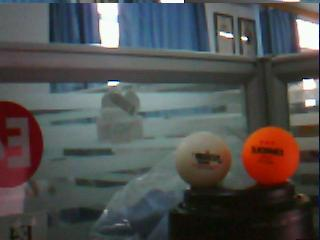oball: (242, 126, 300, 184)
